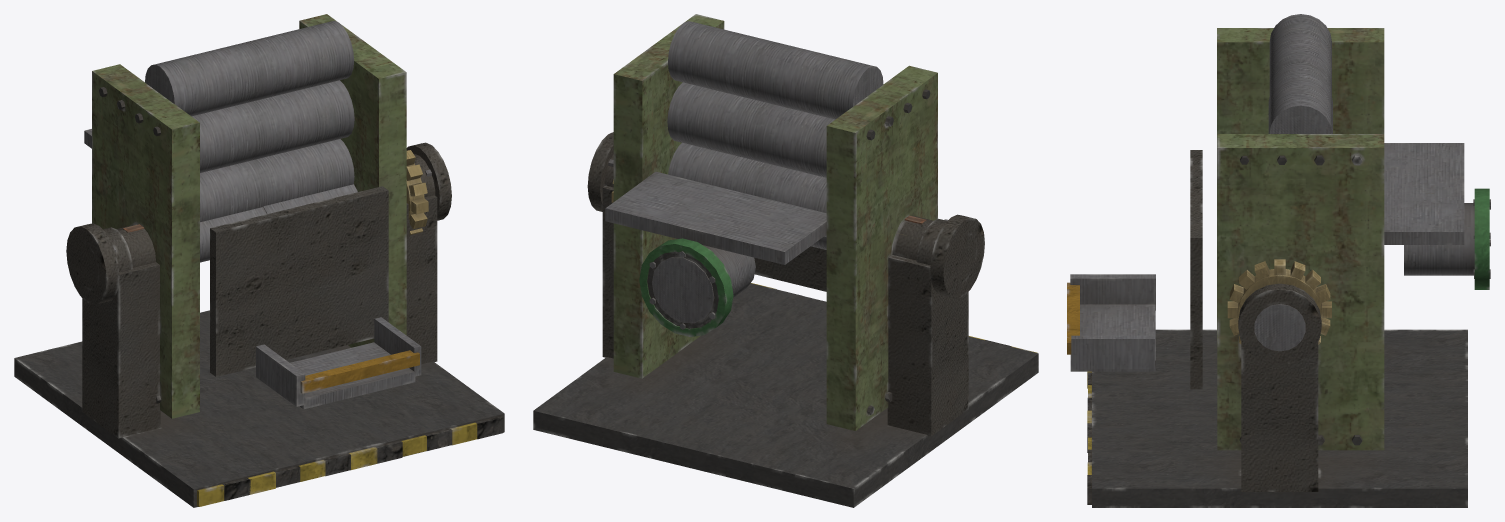
File: feCalender_HD.fbx
3 renders of one model, left to right at view 1: azimuth 30°, elevation 25°; view 2: azimuth 150°, elevation 25°; view 3: azimuth 270°, elevation 25°, orthographic. The views are drawn at different scales.
Visible parts, largest first — view 1: feCalender_Base, FeSpin_x2_Roll2, FeSpin_x2_Rev_Roll1, FeSpin_DriveShaft, FeSpin_x2_Roll0; view 2: feCalender_Base, FeSpin_x2_Roll2, FeSpin_x2_Rev_Roll1, FeSpin_DriveShaft, FeSpin_x2_Roll0; view 3: feCalender_Base, FeSpin_DriveShaft, FeSpin_x2_Roll2.
Part boxes in pixels (x1=…): feCalender_Base: x1=14, y1=14, x2=504, y2=507; FeSpin_x2_Roll2: x1=145, y1=21, x2=354, y2=116; FeSpin_x2_Rev_Roll1: x1=192, y1=80, x2=354, y2=172; FeSpin_DriveShaft: x1=66, y1=142, x2=451, y2=304; FeSpin_x2_Roll0: x1=200, y1=139, x2=354, y2=222; feCalender_Base: x1=533, y1=14, x2=1038, y2=507; FeSpin_x2_Roll2: x1=668, y1=21, x2=883, y2=119; FeSpin_x2_Rev_Roll1: x1=667, y1=82, x2=835, y2=177; FeSpin_DriveShaft: x1=587, y1=132, x2=984, y2=298; FeSpin_x2_Roll0: x1=668, y1=142, x2=826, y2=236; feCalender_Base: x1=1067, y1=28, x2=1490, y2=507; FeSpin_DriveShaft: x1=1227, y1=259, x2=1331, y2=365; FeSpin_x2_Roll2: x1=1269, y1=14, x2=1331, y2=133.
Size of the model in its own units: 1 by 0.9756 by 1.02.
1 material, 1 textured.
